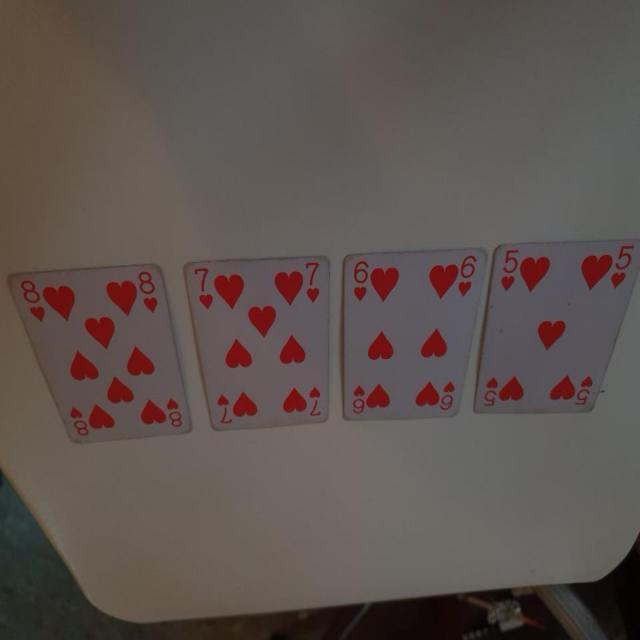5 of hearts: (468, 229, 640, 421)
6 of hearts: (338, 232, 486, 428)
7 of hearts: (182, 253, 337, 434)
8 of hearts: (4, 255, 192, 457)
